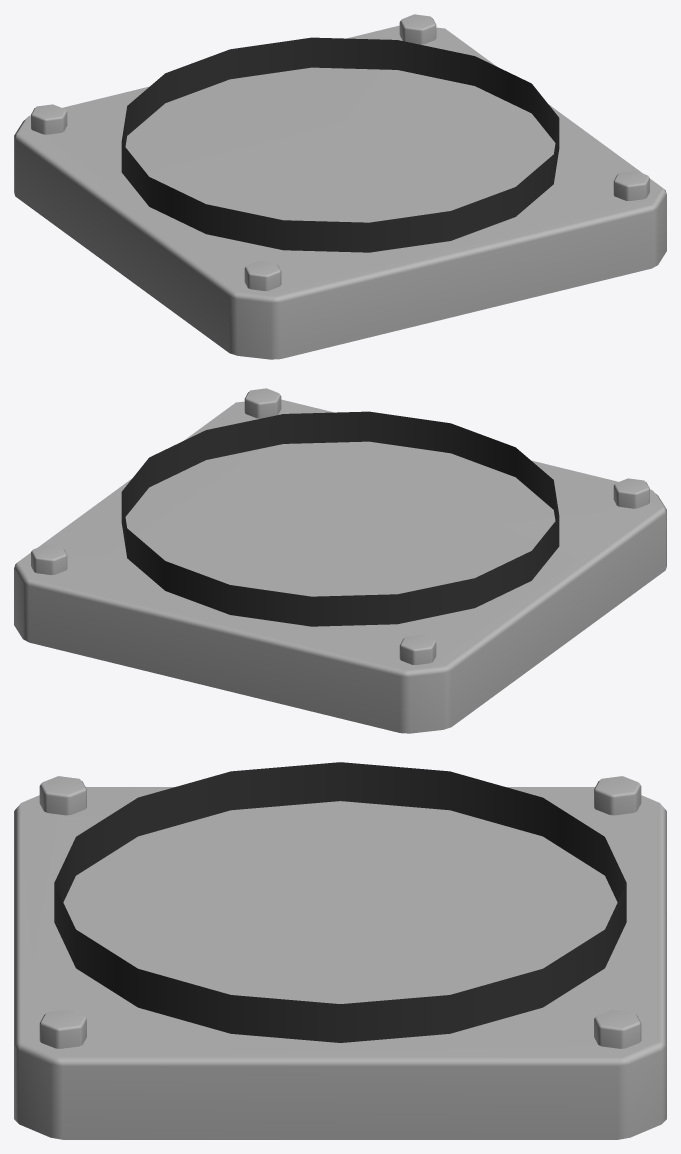
The model's file is obstacle_11_001.fbx.
3 renders of one model, top to bottom at view 1: azimuth 30°, elevation 25°; view 2: azimuth 150°, elevation 25°; view 3: azimuth 270°, elevation 25°, orthographic. The views are drawn at different scales.
Visible parts, largest first — view 1: obstacle_11_001; view 2: obstacle_11_001; view 3: obstacle_11_001.
Boxes of the visible parts, box(x1,y1,x2,y2) form: obstacle_11_001: box(14, 14, 666, 359); obstacle_11_001: box(14, 388, 666, 733); obstacle_11_001: box(14, 762, 666, 1139).
Bounding box in the file's own units: 301 × 301 × 60.34.
